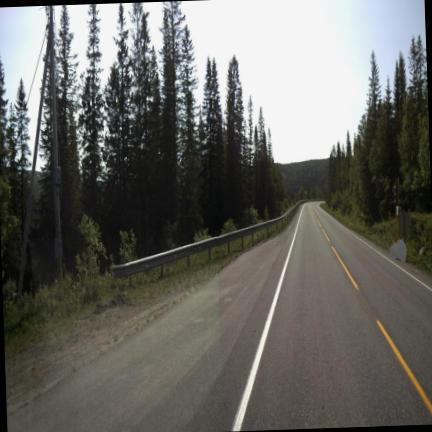Road: (7, 202, 431, 431)
